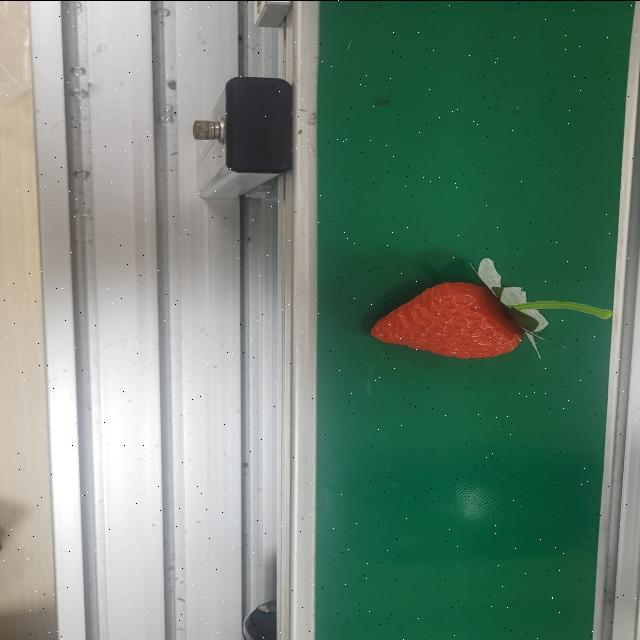Small Ripe Strawberry: (366, 255, 544, 359)
